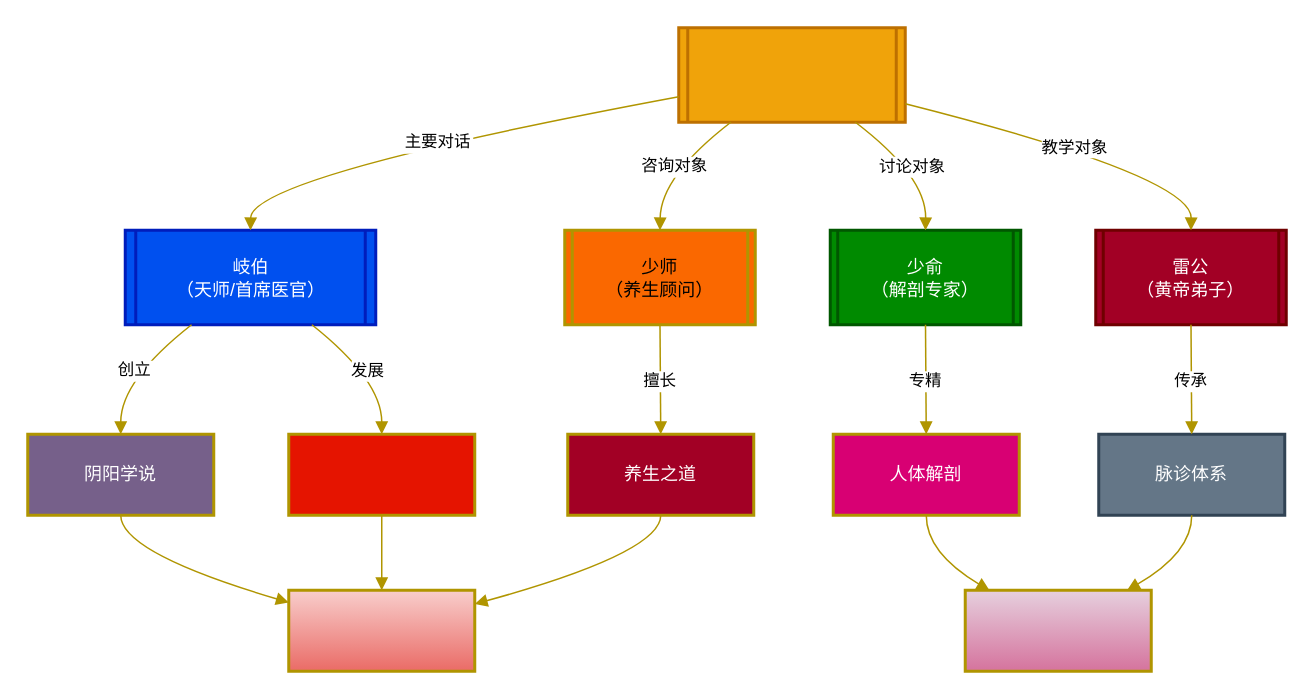
Image size: 1313x698. Some labels were removed from this diagram. Here are the shapes that lost their labels. From the top down, the centre of each, then its label:
point (791, 74): 黄帝 （帝王/提问者）
point (381, 474): 五行理论
point (381, 630): 《素问》
point (1057, 630): 《灵枢》
